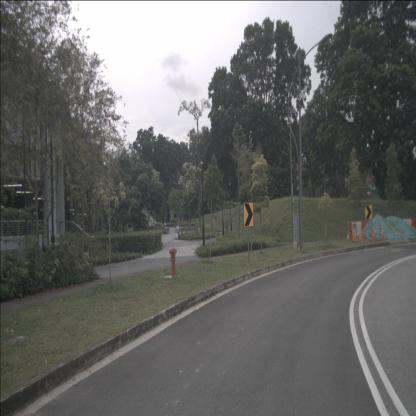cone: (370, 226, 376, 243), (380, 227, 386, 243), (358, 226, 363, 244), (352, 226, 356, 242)
